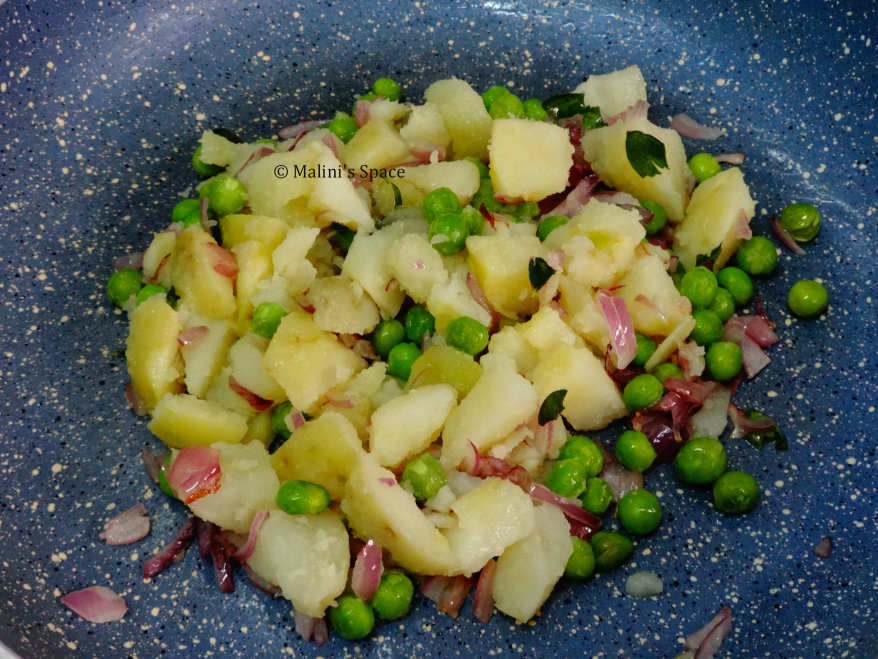boiled peas: (545, 445, 663, 527), (683, 280, 752, 382)
boiled potatoes: (159, 242, 579, 585)
